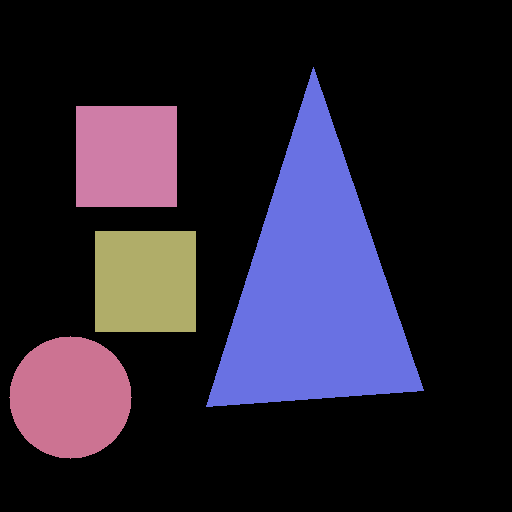circle: (9, 336, 131, 458)
square: (95, 231, 195, 331), (76, 106, 176, 206)
triangle: (206, 67, 423, 406)
